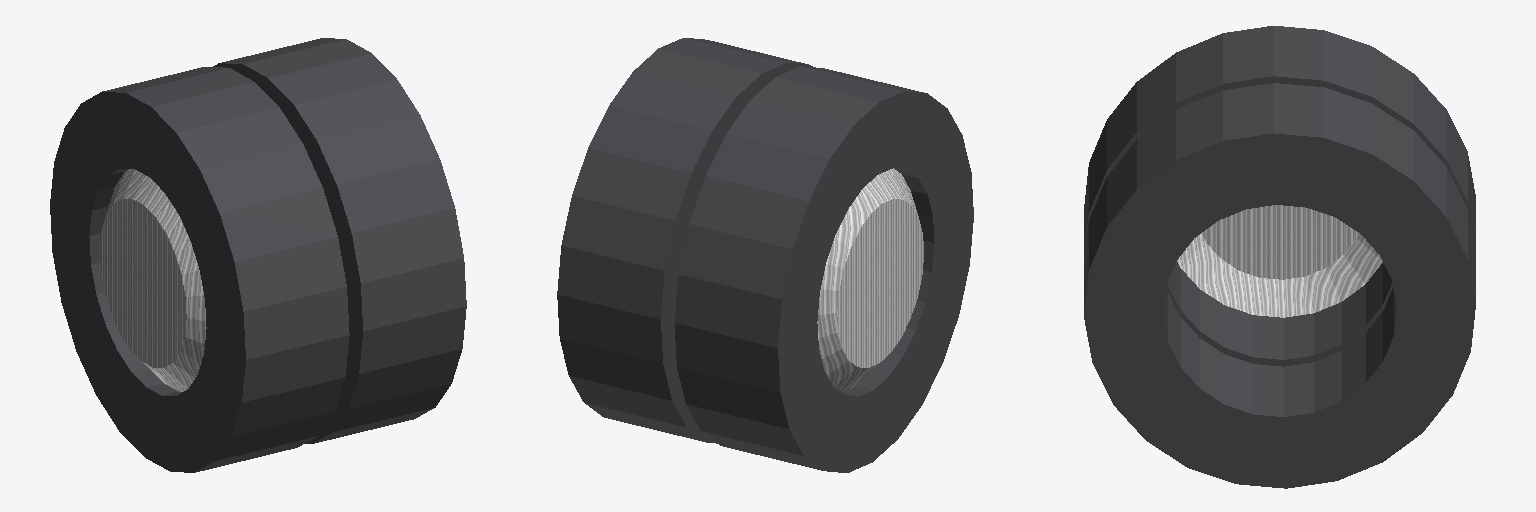
3 renders of one model, left to right at view 1: azimuth 30°, elevation 25°; view 2: azimuth 150°, elevation 25°; view 3: azimuth 270°, elevation 25°, orthographic.
Visible parts, largest first — view 1: tractor1:object_48; view 2: tractor1:object_48; view 3: tractor1:object_48.
Boxes of the visible parts, x1,y1,x2,y2 form: tractor1:object_48: [50, 38, 466, 472]; tractor1:object_48: [557, 38, 973, 472]; tractor1:object_48: [1084, 26, 1475, 488].
Size of the model in its own units: 0.0157 by 0.0237 by 0.0236.
Materials: 2 (2 with a texture image).